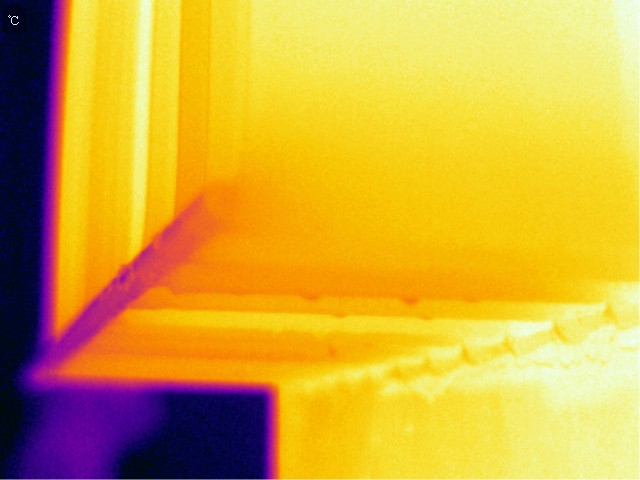Oil: (294, 289, 324, 303), (456, 293, 485, 304), (399, 295, 424, 306), (331, 312, 349, 319)
